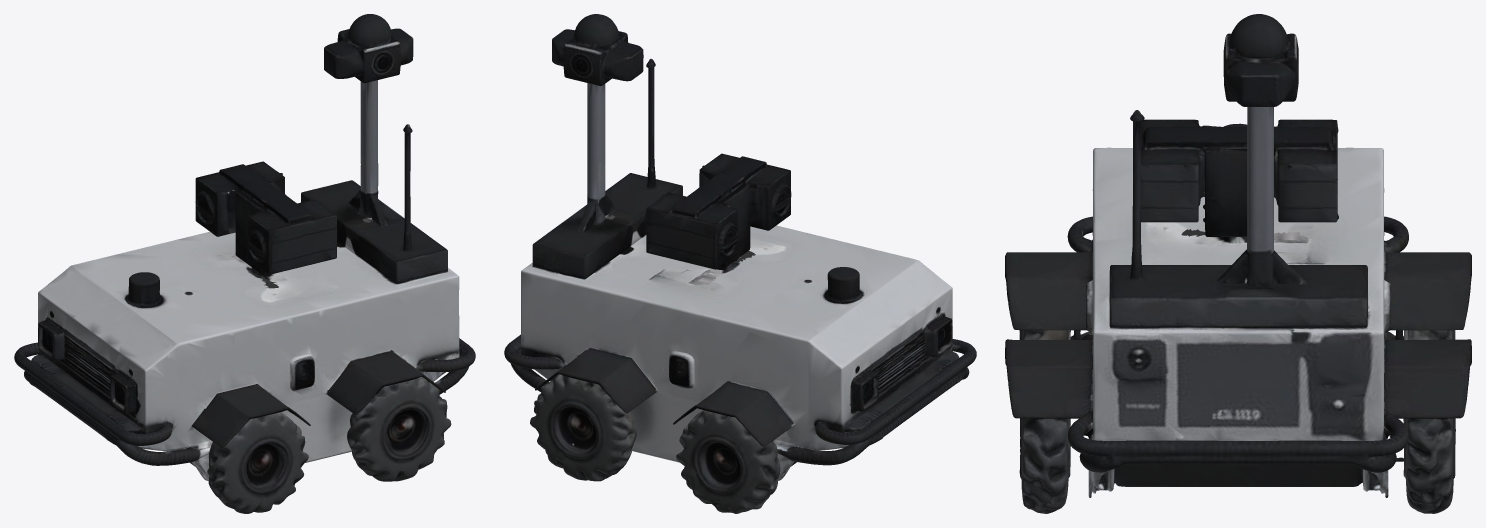
File: rover.glb
The picture shows the model from 3 angles, left to right: view 1: azimuth 30°, elevation 25°; view 2: azimuth 150°, elevation 25°; view 3: azimuth 270°, elevation 25°; orthographic projection. The views are drawn at different scales.
Parts seen in each view (by area): view 1: tripo_node_34020606-6ff1-42c4-a5c7-36e3a8805bd4; view 2: tripo_node_34020606-6ff1-42c4-a5c7-36e3a8805bd4; view 3: tripo_node_34020606-6ff1-42c4-a5c7-36e3a8805bd4.
Boxes of the visible parts, bbox=[...] form: tripo_node_34020606-6ff1-42c4-a5c7-36e3a8805bd4: bbox=[14, 14, 475, 513]; tripo_node_34020606-6ff1-42c4-a5c7-36e3a8805bd4: bbox=[504, 14, 976, 513]; tripo_node_34020606-6ff1-42c4-a5c7-36e3a8805bd4: bbox=[1005, 14, 1471, 513].
Bounding box in the file's own units: 0.9468 × 0.9999 × 0.8046.
1 material, 1 textured.
